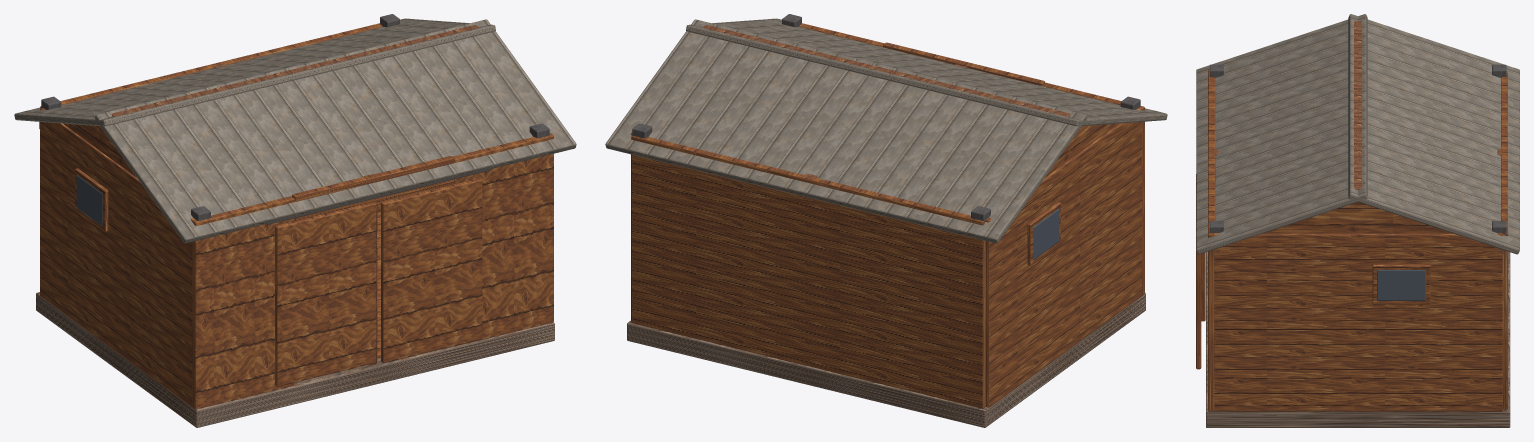
File: warehouse.glb
3 renders of one model, left to right at view 1: azimuth 30°, elevation 25°; view 2: azimuth 150°, elevation 25°; view 3: azimuth 270°, elevation 25°, orthographic. The views are drawn at different scales.
Visible parts, largest first — view 1: roof, wallS, doorL, doorR, wallF, wallF.001, roof.001, footing, wallFtop, ridge, wallB, gable (+3 smaller); view 2: wallB, roof.001, wallS, roof, footing, ridge, wallFtop, gable, wallF, winDark, winFrame; view 3: wallS.001, roof.001, roof, footing, gable.001, wallB, winDark.001, wallF.001, ridge, winFrame.001, doorR, wallFtop (+2 smaller).
Boxes of the visible parts, x1,y1,x2,y2 form: roof: (95,19,576,243); wallS: (40,108,195,406); doorL: (275,202,376,386); doorR: (381,178,482,363); wallF: (192,196,294,409); wallF.001: (452,133,553,346); roof.001: (14,18,495,126); footing: (36,292,554,427); wallFtop: (291,156,454,220); ridge: (111,25,479,116); wallB: (40,23,382,212); gable: (63,123,136,177); wallB: (631,135,985,408); roof.001: (605,19,1086,243); wallS: (986,108,1141,407); roof: (686,18,1167,126); footing: (627,293,1145,427); ridge: (702,25,1070,116); wallFtop: (882,42,1045,85); gable: (1045,123,1118,177); wallF: (1042,82,1144,295); winDark: (1033,209,1059,259); winFrame: (1027,202,1060,265); wallS.001: (1214,233,1502,411); roof.001: (1348,14,1519,254); roof: (1196,14,1367,254); footing: (1206,251,1510,427); gable.001: (1263,202,1452,233); wallB: (1501,71,1507,409); winDark.001: (1377,270,1425,300); wallF.001: (1208,189,1215,411); ridge: (1354,21,1361,189); winFrame.001: (1372,264,1430,304); doorR: (1196,174,1201,369); wallFtop: (1208,114,1215,189).
Size of the model in its own units: 5.9 by 3.68 by 4.47.
Materials: 9 (8 with a texture image).
